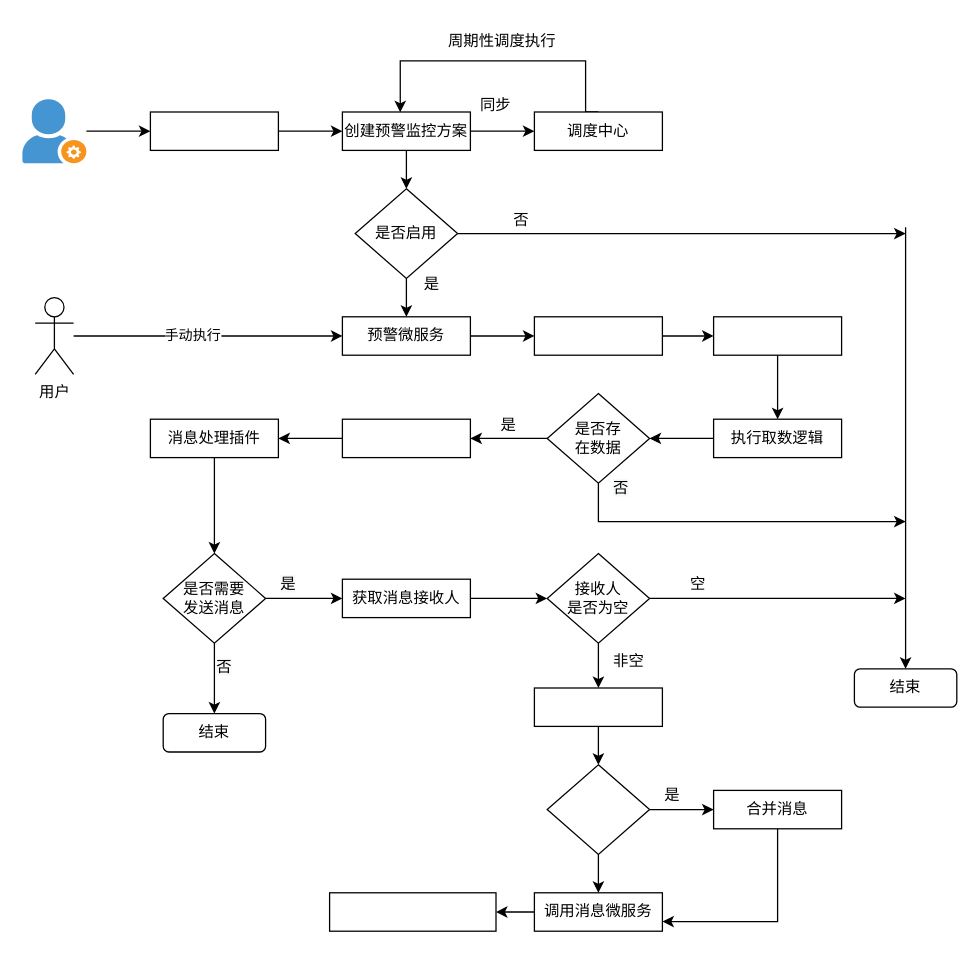
This 979x954 diagram has some shape labels left out. Each missing label, with the centre of its shape:
"创建自定义数据源" goes at point 213,130.
"发送消息到指定渠道" goes at point 412,911.
"数据源插件" goes at point 777,335.
"是否合并 发送消息" goes at point 598,809.
"消息解析插件" goes at point 405,438.
"获取消息发送渠道" goes at point 597,706.
"获取监控对象" goes at point 597,335.
